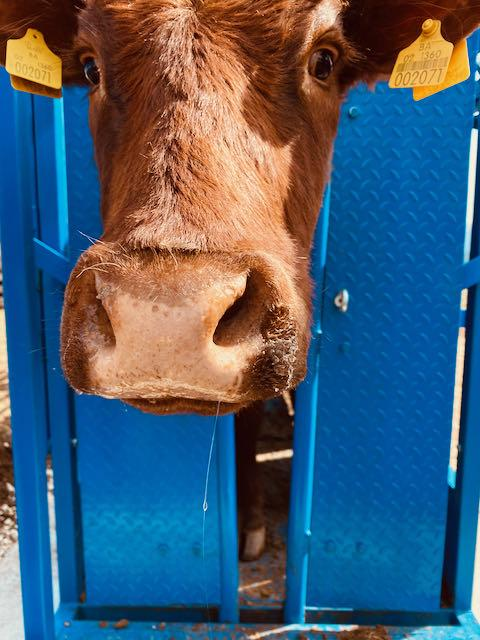muzzles: (37, 234, 332, 427)
